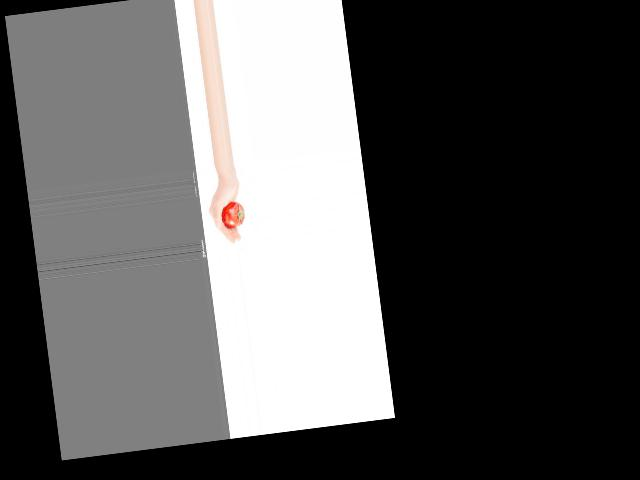tomato: (220, 199, 245, 228)
